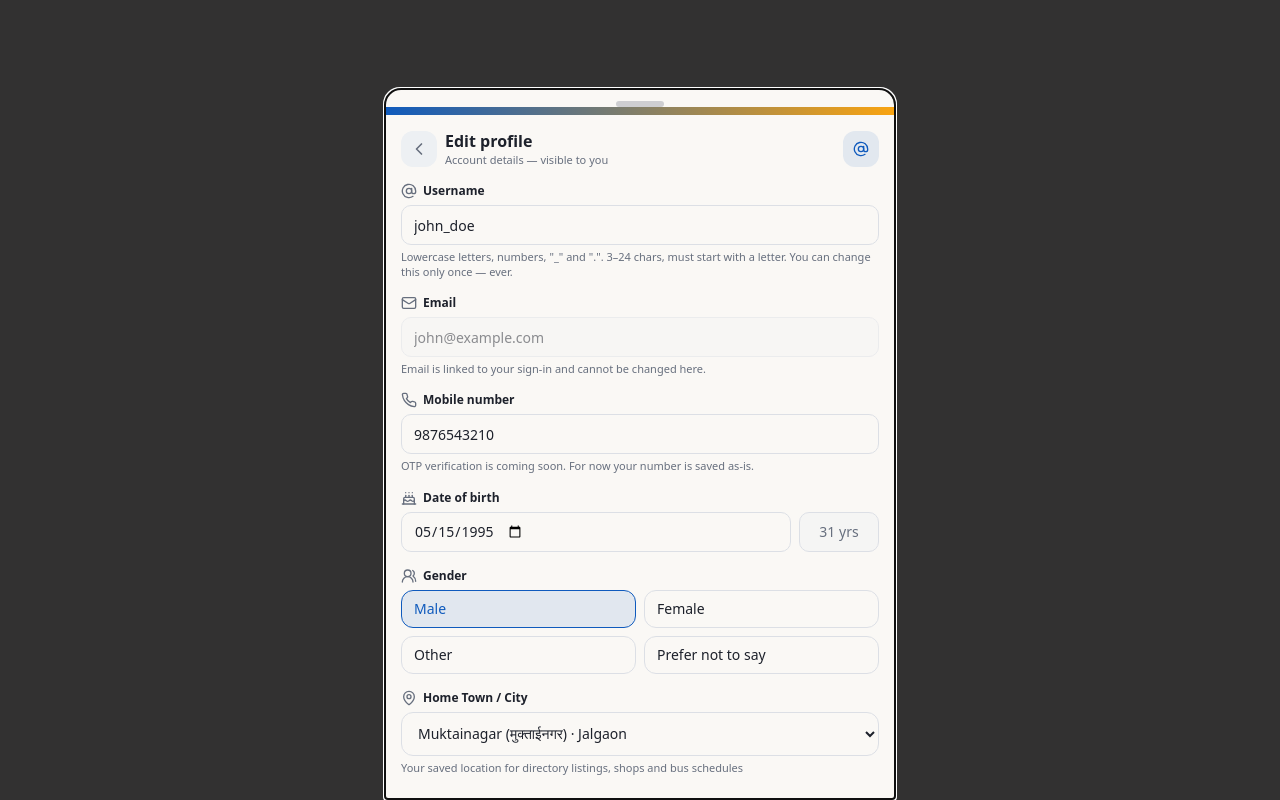
Test: Swipe-Down to Close Mobile Gesture › EditProfileDrawer Unsaved Edits Guard › discards changes and closes when user confirms Discard & close
The width and height of the screenshot is (1280, 800).
Later steps or results of the test are not shown.
# Modify phone number
Replace the text in the field showing "9876543210" below "Mobile number" with "9123456789" at (640, 434), box [401, 414, 879, 454]
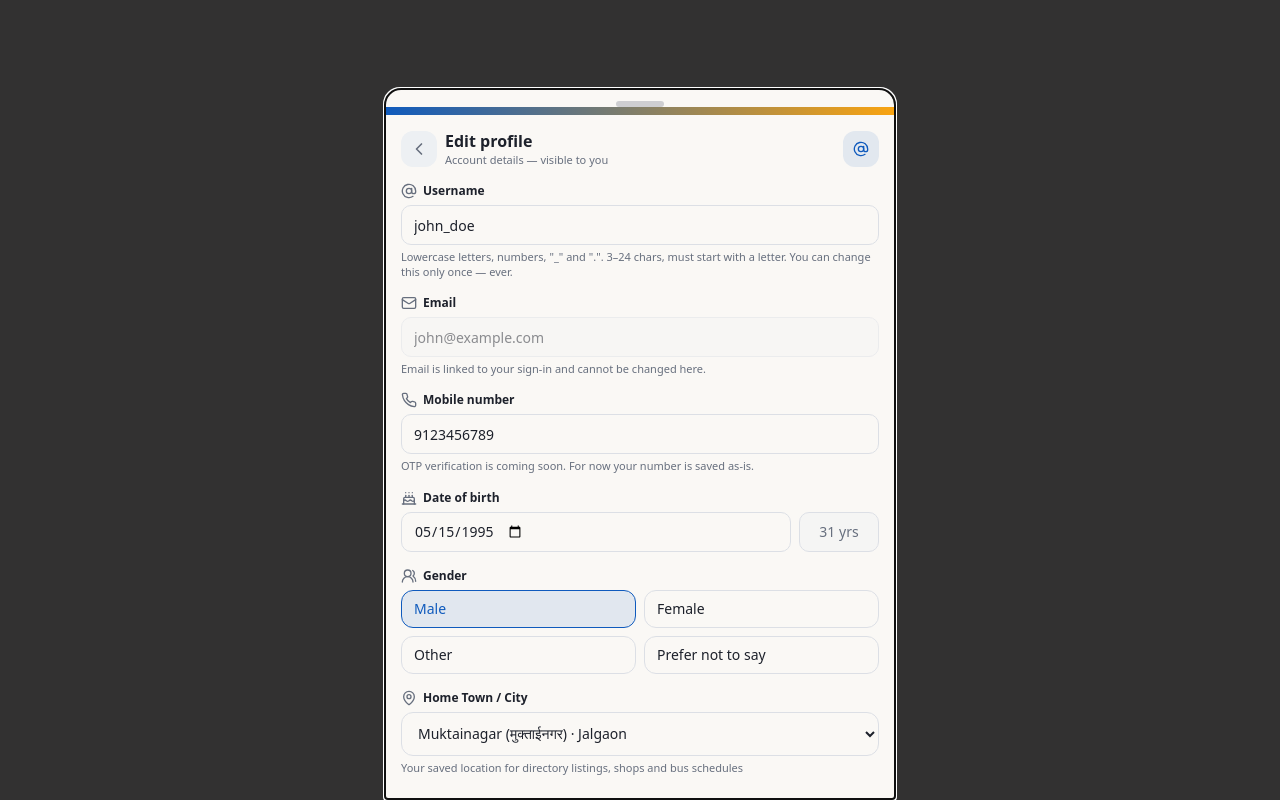
# Click Back
Click the button named "Back" at (419, 149), box [401, 131, 437, 167]
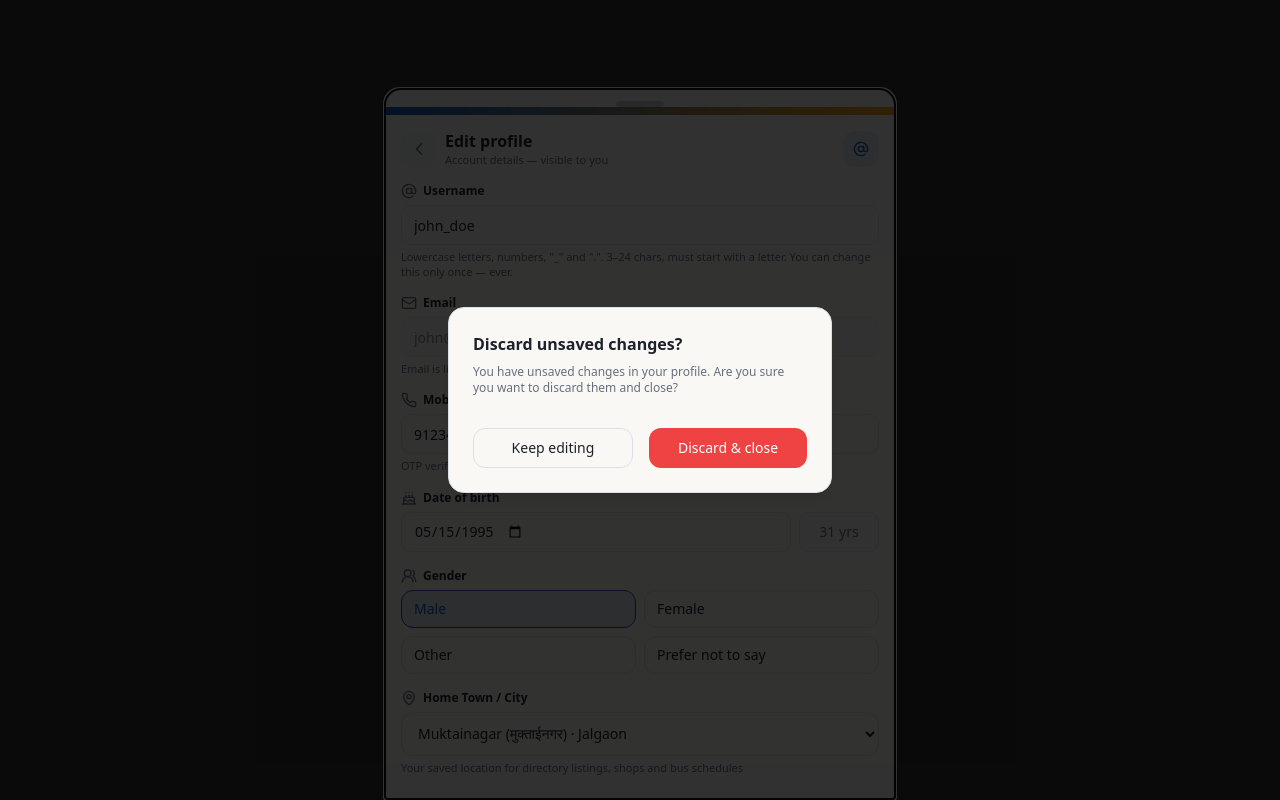
Result: the heading "Discard unsaved changes?" is shown at [473, 333, 682, 355]
